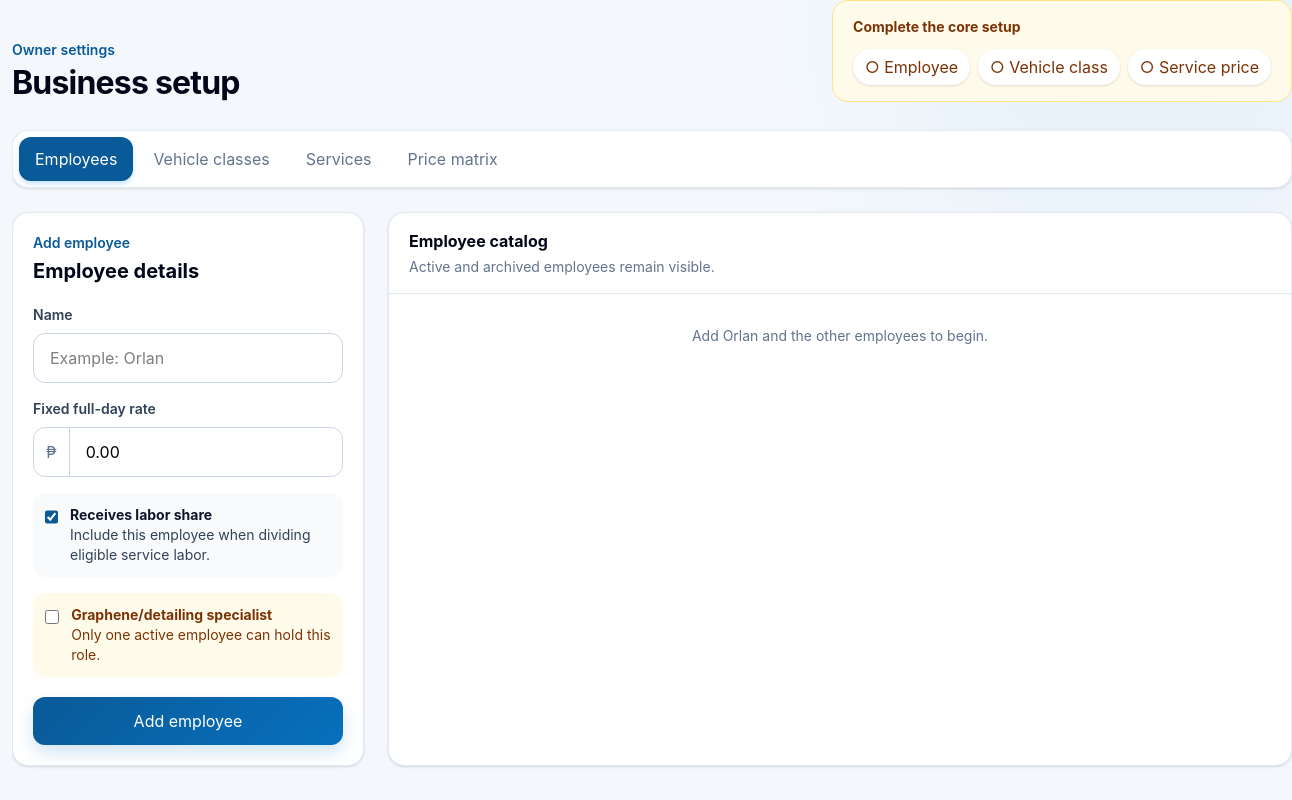
Test: CatalogSettings › shows guided setup and the seeded service labor rules
The width and height of the screenshot is (1292, 800).
Check: the heading "Business setup" is shown, box [12, 64, 240, 102]
Check: the text "Complete the core setup" is shown, box [853, 18, 1020, 35]
Click the tab "Services": (339, 159) [290, 137, 388, 181]
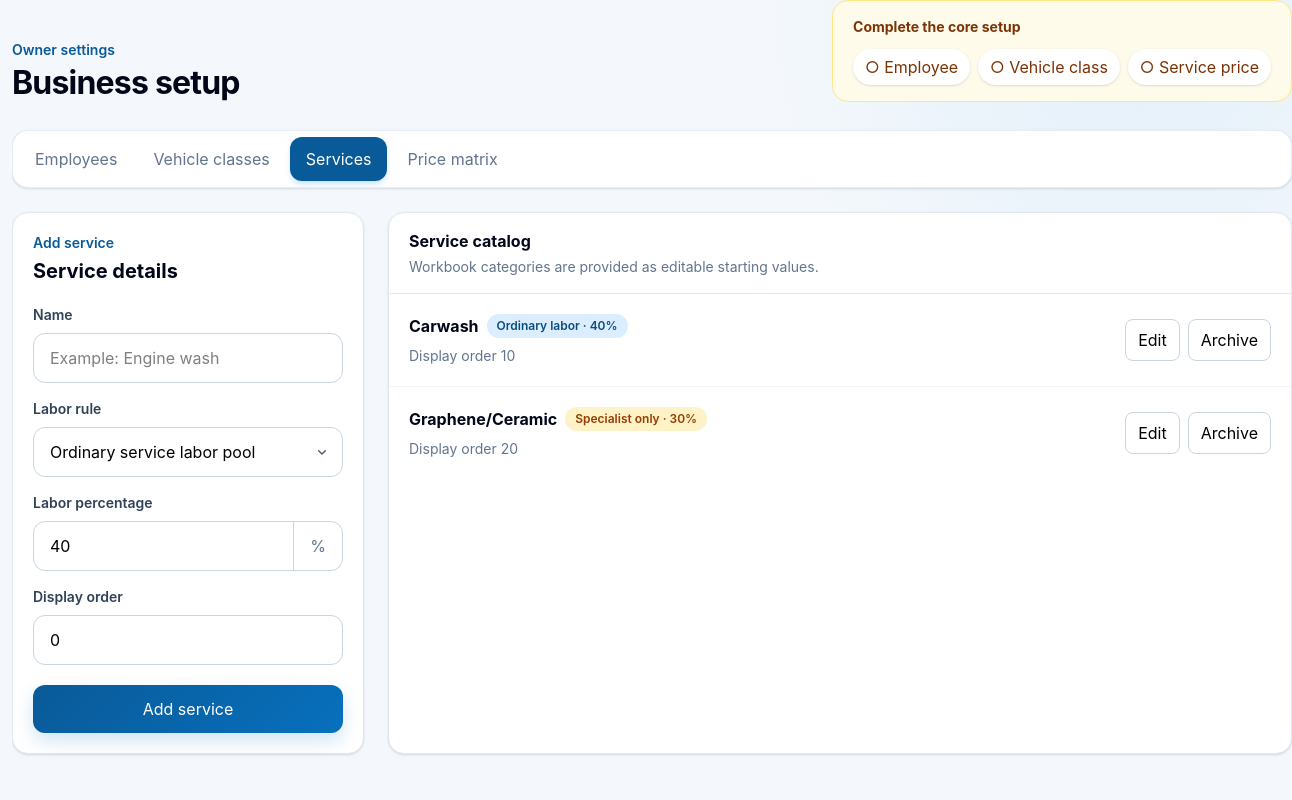
Check: the heading "Carwash" is shown, box [409, 314, 478, 338]
Check: the text "Ordinary labor · 40%" is shown, box [486, 314, 628, 338]
Check: the heading "Graphene/Ceramic" is shown, box [409, 407, 557, 431]
